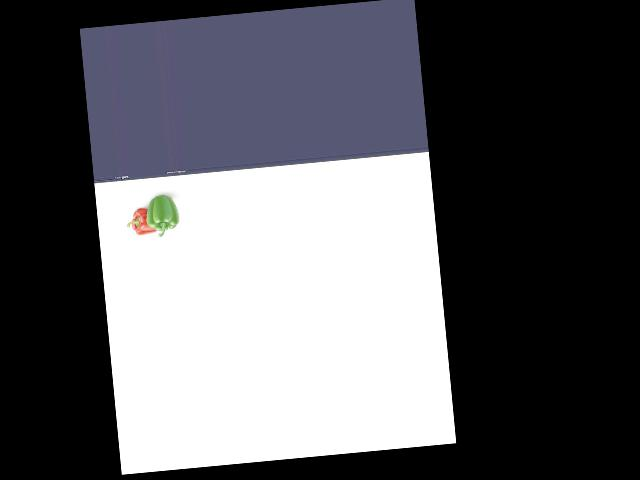bell_pepper: (126, 207, 158, 239)
